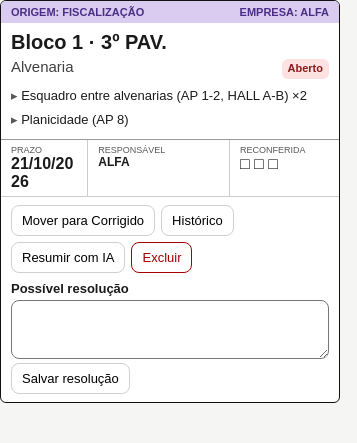
<CartaoPacote/> — kanban e página de cards › erro ao salvar aparece como alerta e o texto não se perde
Type "demolir" into the text box labelled "Possível resolução". click: (170, 330)
box: [11, 300, 329, 359]
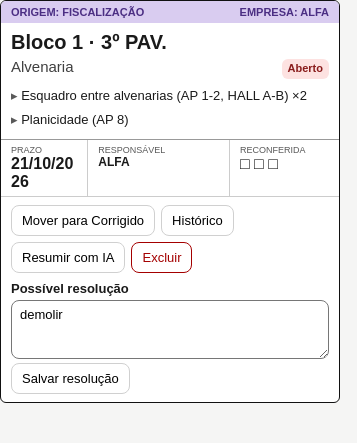
Click the button "Salvar resolução". click: (70, 378)
box: [11, 363, 130, 394]
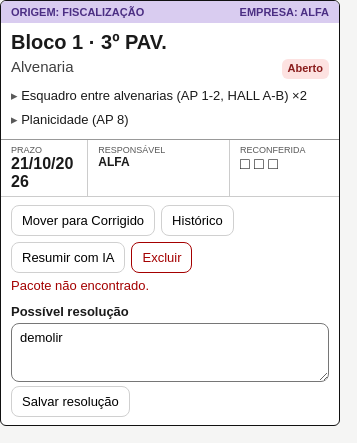
Now the message reads "Pacote não encontrado.", box [11, 278, 149, 293]
